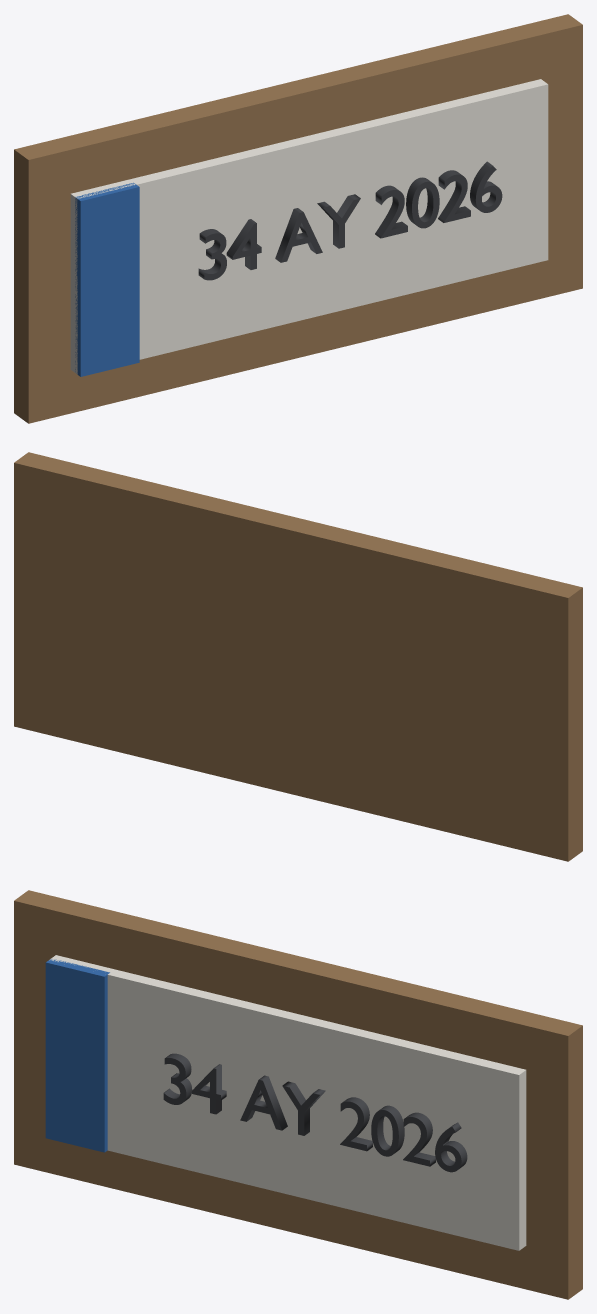
Rendered from plate_frame.glb.
3 renders of one model, top to bottom at view 1: azimuth 30°, elevation 25°; view 2: azimuth 150°, elevation 25°; view 3: azimuth 330°, elevation 25°, orthographic.
Visible parts, largest first — view 1: plate_frame; view 2: plate_frame; view 3: plate_frame.
Part boxes in pixels (<box>): plate_frame: <box>14,14,582,423</box>; plate_frame: <box>14,452,582,861</box>; plate_frame: <box>14,890,582,1299</box>.
Size of the model in its own units: 0.66 by 0.3 by 0.057.
